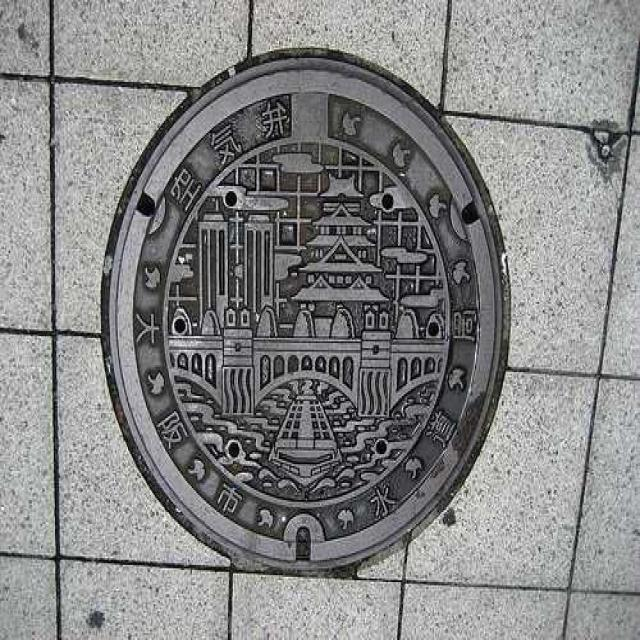manhole: (102, 50, 509, 572)
